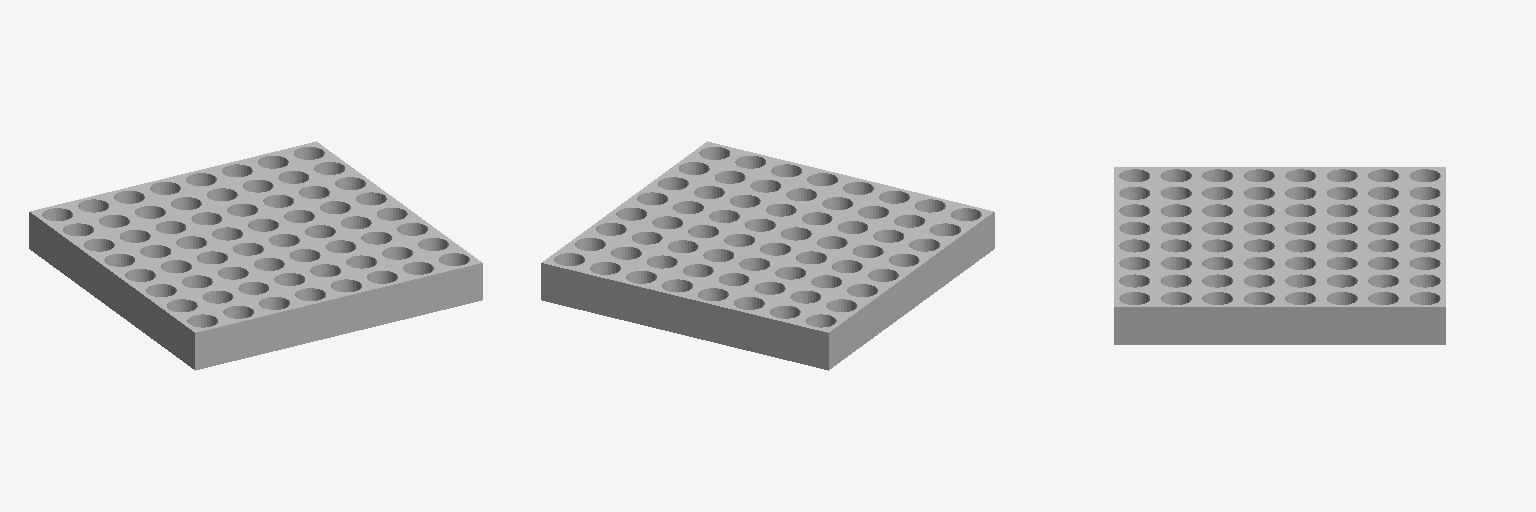
Rendered from ConnectFourBoard.obj.
3 renders of one model, left to right at view 1: azimuth 30°, elevation 25°; view 2: azimuth 150°, elevation 25°; view 3: azimuth 270°, elevation 25°, orthographic.
Visible parts, largest first — view 1: Cube.001_Cube.008; view 2: Cube.001_Cube.008; view 3: Cube.001_Cube.008.
Boxes of the visible parts, x1,y1,x2,y2 form: Cube.001_Cube.008: [29, 141, 482, 370]; Cube.001_Cube.008: [541, 141, 994, 370]; Cube.001_Cube.008: [1114, 167, 1445, 344].
Size of the model in its own units: 16 by 2 by 16.